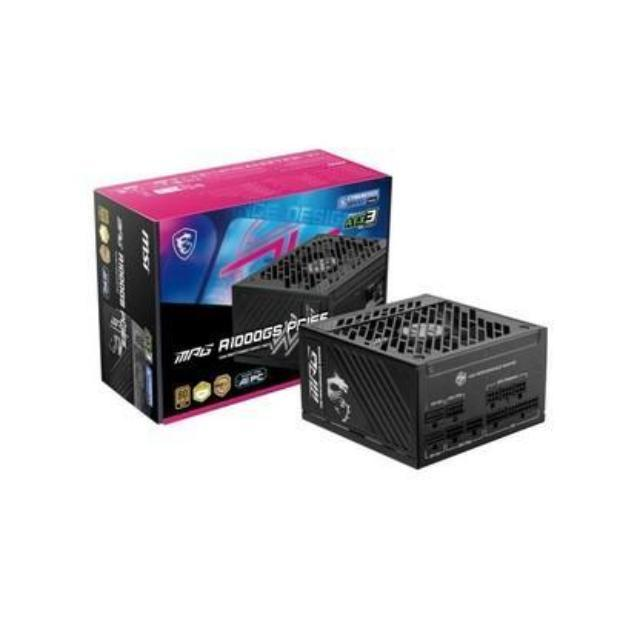PSU: (297, 294, 554, 472)
